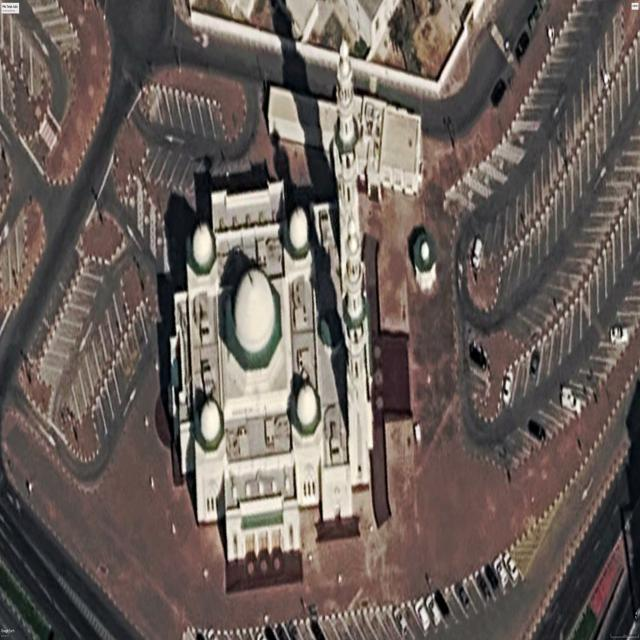mosque: (170, 43, 374, 562)
